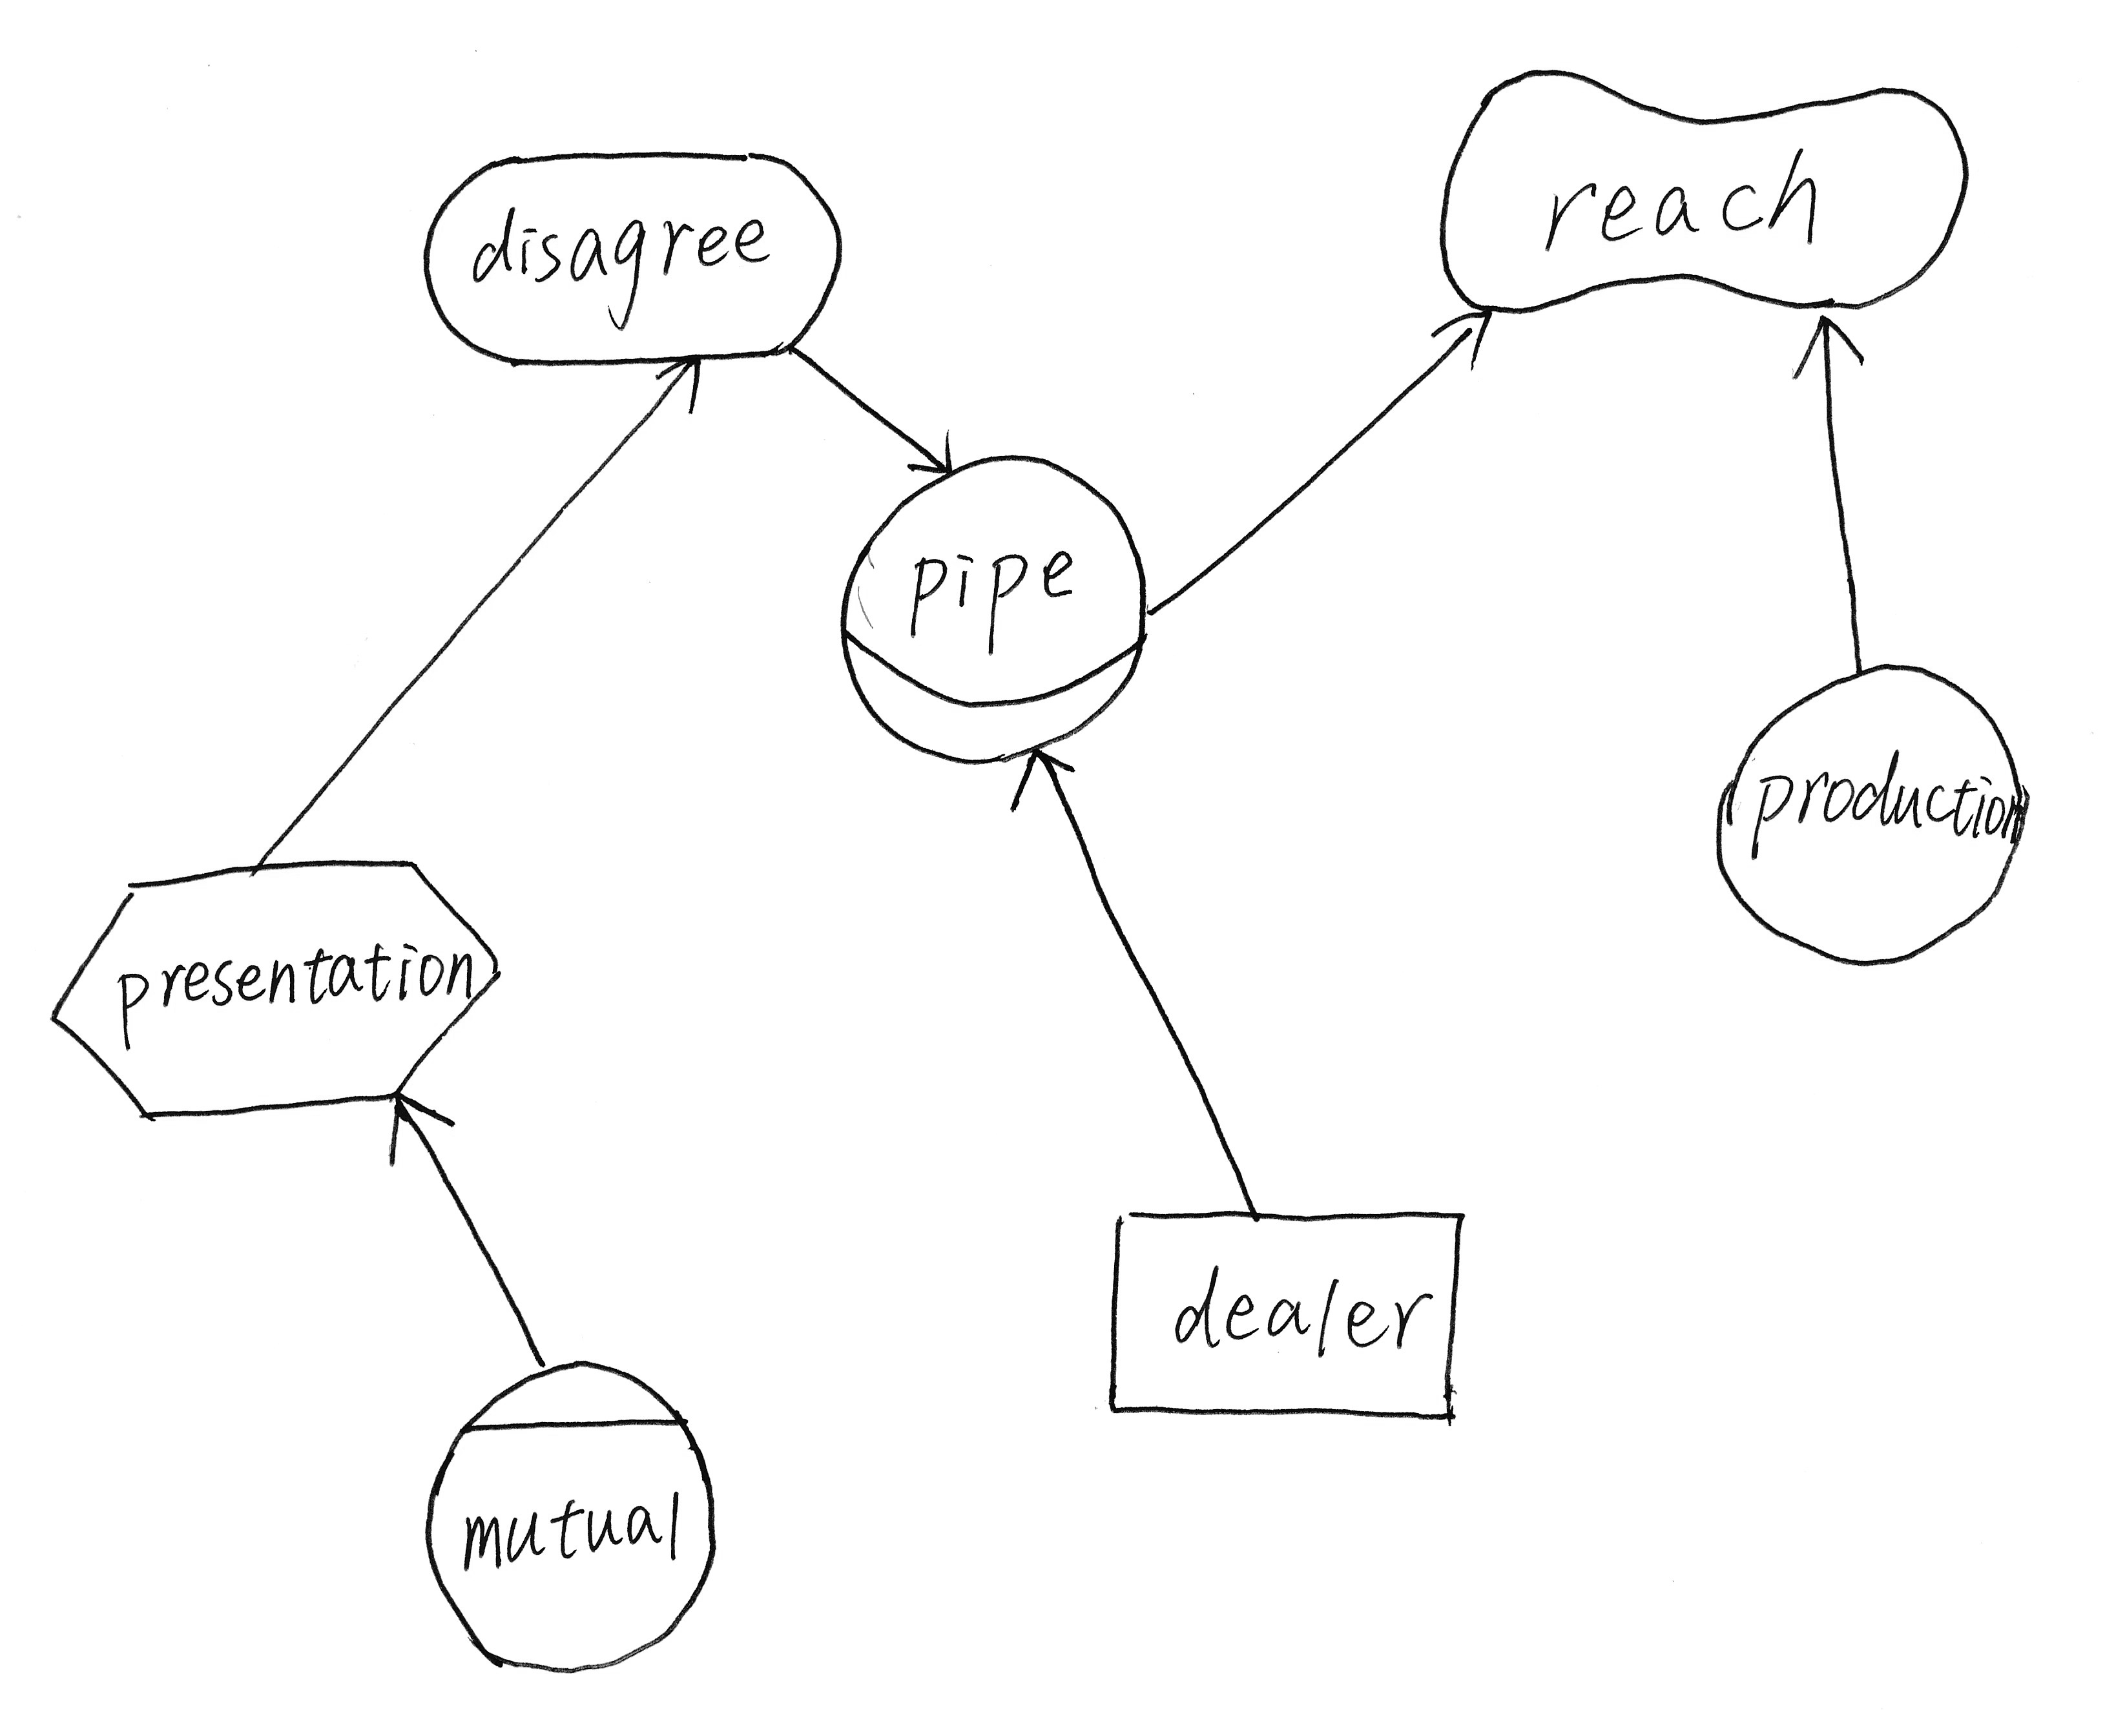actor: (1693, 632, 2049, 990)
agent: (404, 1337, 738, 1692)
arrow: (358, 1069, 473, 1177), (1776, 289, 1878, 386), (999, 727, 1084, 826), (1423, 291, 1509, 383), (650, 335, 725, 434), (893, 415, 976, 489)
goal: (406, 122, 860, 399)
quality: (1414, 49, 2000, 346)
resource: (1084, 1177, 1484, 1441)
role: (814, 432, 1168, 780)
task: (28, 834, 528, 1141)
